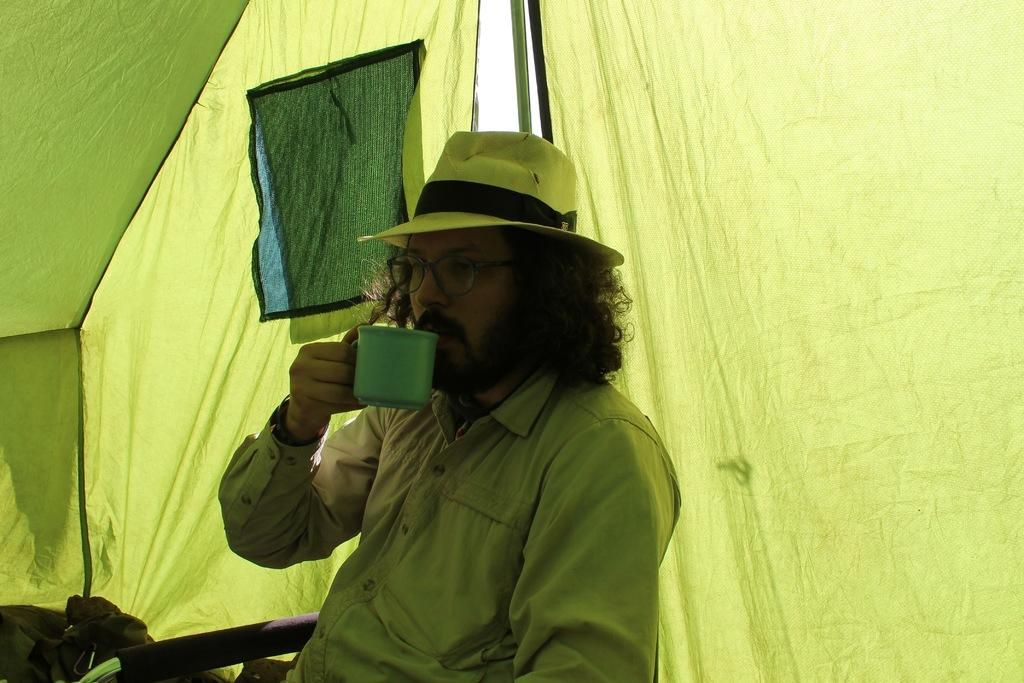Hat: (360, 132, 625, 256)
